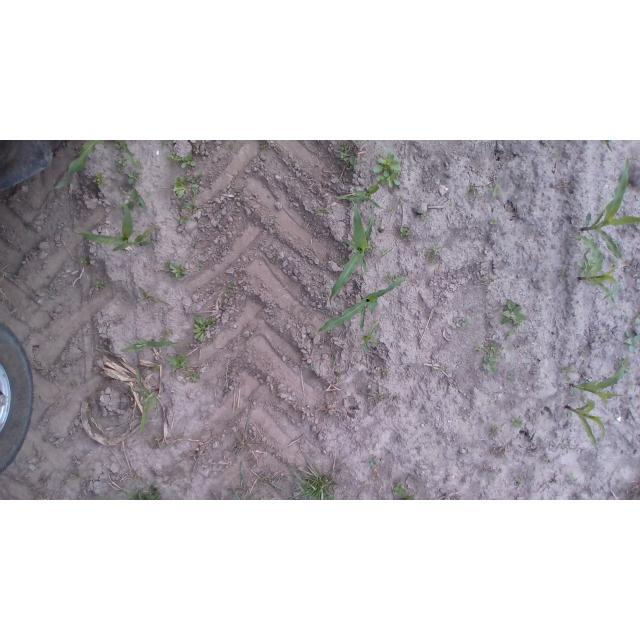Maize: (580, 158, 640, 268), (329, 201, 390, 306), (316, 277, 411, 335), (76, 204, 162, 253), (568, 230, 622, 305), (52, 141, 108, 190), (567, 362, 625, 409), (565, 399, 611, 452), (128, 370, 159, 434), (340, 185, 384, 212), (118, 339, 178, 354)
Weeds: (375, 150, 402, 191), (169, 173, 200, 202), (500, 297, 526, 329), (191, 316, 217, 345), (392, 480, 418, 499), (424, 242, 444, 264), (481, 354, 500, 377), (171, 152, 198, 168), (169, 352, 190, 372), (167, 263, 190, 278), (180, 204, 202, 217), (312, 207, 337, 218), (348, 157, 361, 178), (158, 328, 179, 341), (488, 184, 504, 201), (81, 254, 96, 270), (90, 173, 104, 189), (567, 472, 580, 489), (512, 415, 526, 430), (226, 283, 240, 298), (366, 456, 378, 473), (117, 159, 130, 174), (177, 217, 195, 227), (91, 281, 107, 292), (129, 175, 145, 186), (339, 143, 349, 160), (184, 375, 201, 385), (400, 226, 413, 239), (115, 143, 130, 154), (69, 468, 82, 480), (270, 217, 282, 230), (487, 342, 501, 353), (490, 422, 499, 438), (549, 151, 564, 160), (459, 316, 470, 328), (398, 193, 408, 206), (473, 345, 484, 356), (387, 205, 397, 217), (384, 272, 393, 285), (308, 363, 319, 373), (489, 217, 499, 228), (420, 213, 432, 222), (270, 257, 282, 266), (364, 244, 376, 253), (382, 248, 391, 259), (261, 144, 271, 153), (380, 368, 388, 379), (236, 189, 245, 198), (71, 380, 78, 389), (225, 145, 235, 150)
